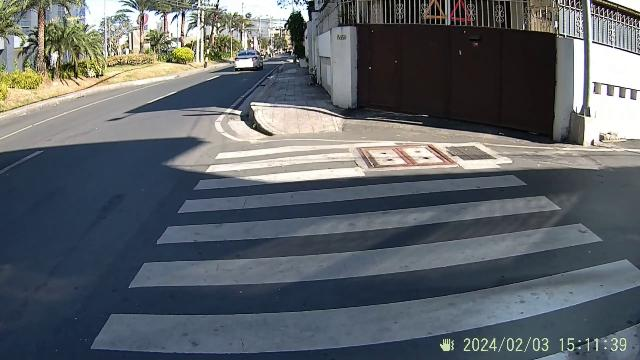utility_post: (570, 0, 602, 146)
